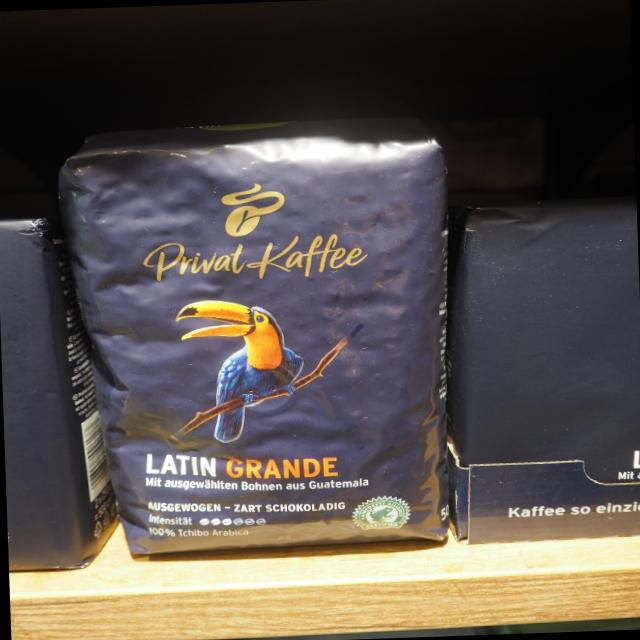LG Bohne: (36, 105, 453, 561)
